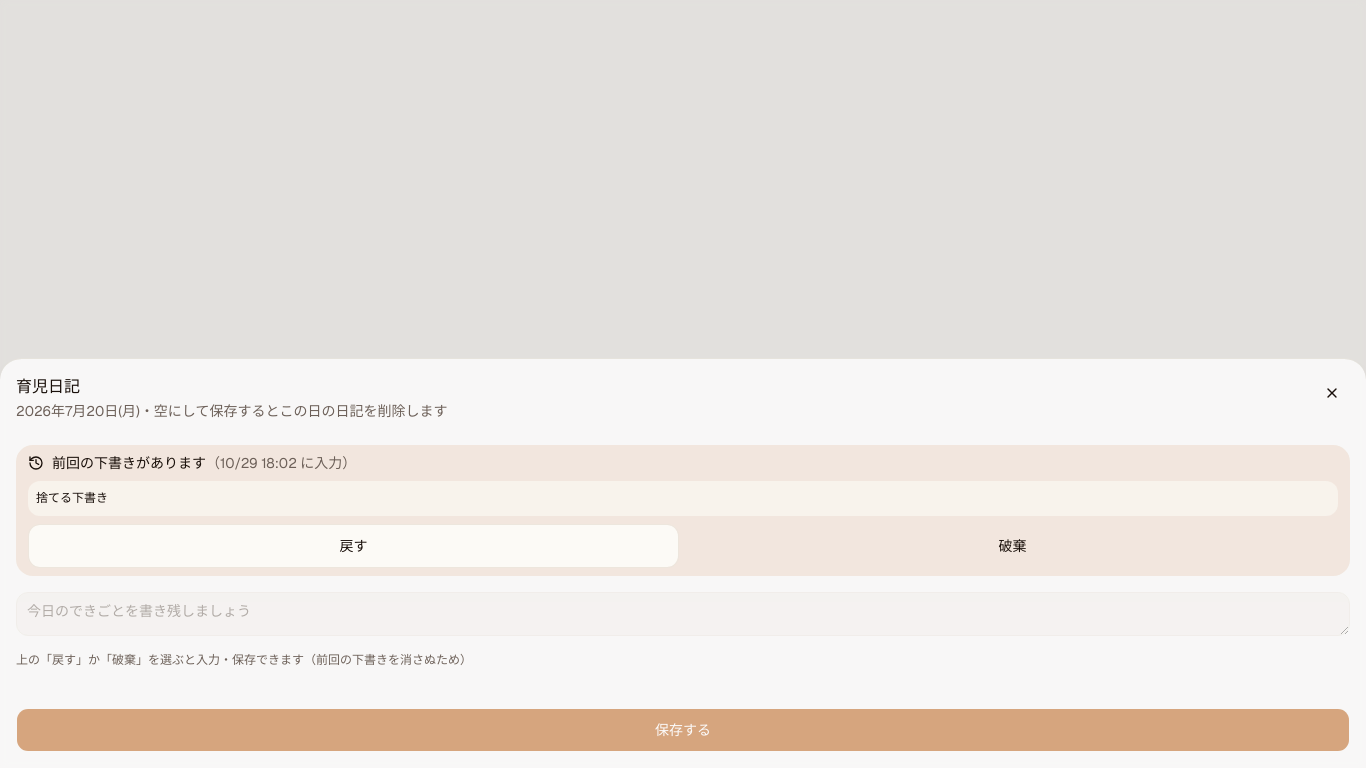
Test case: 日記の下書き: 閉じる・再読込で戻せる（AC07） › 「破棄」はこの日の下書きだけを消す
Click the button "破棄" at x=1012, y=546, box [687,524,1338,568]
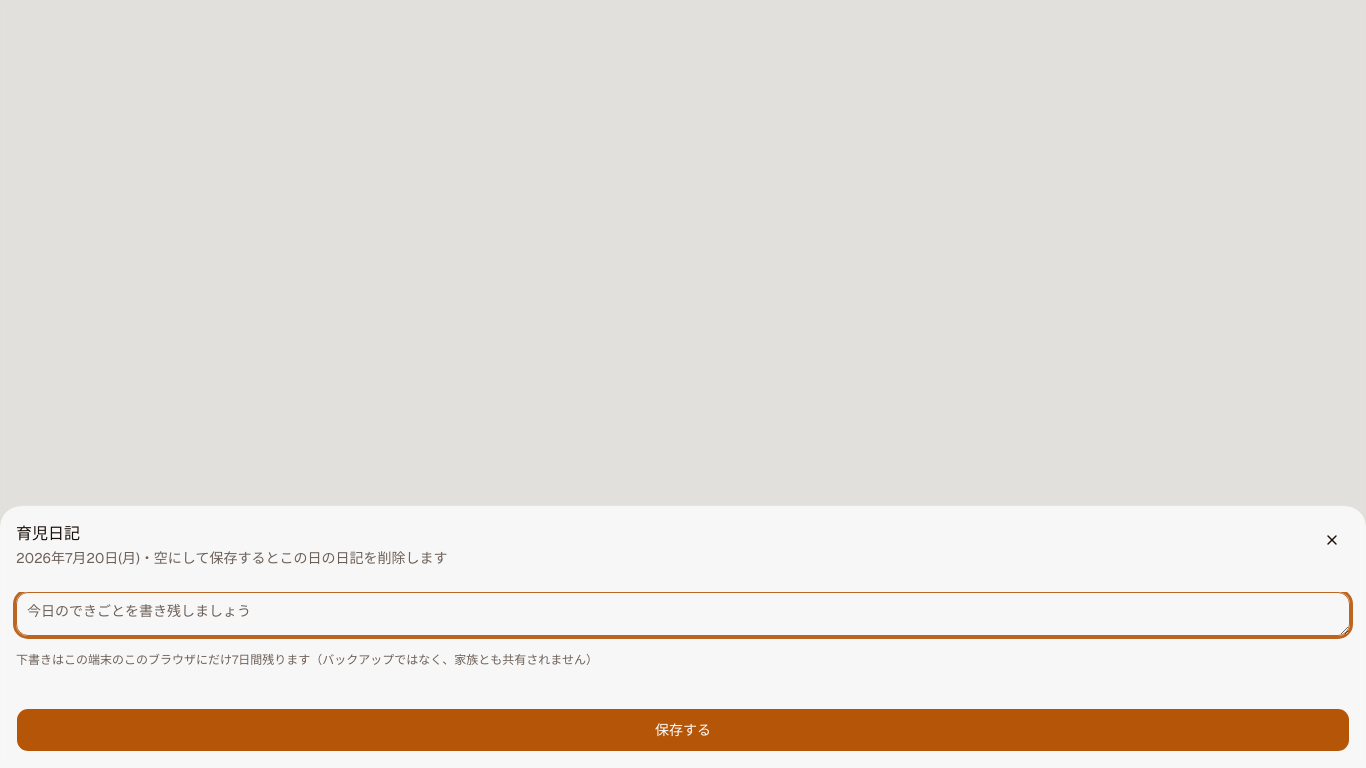
Check: the text "前回の下書きがあります" is gone
